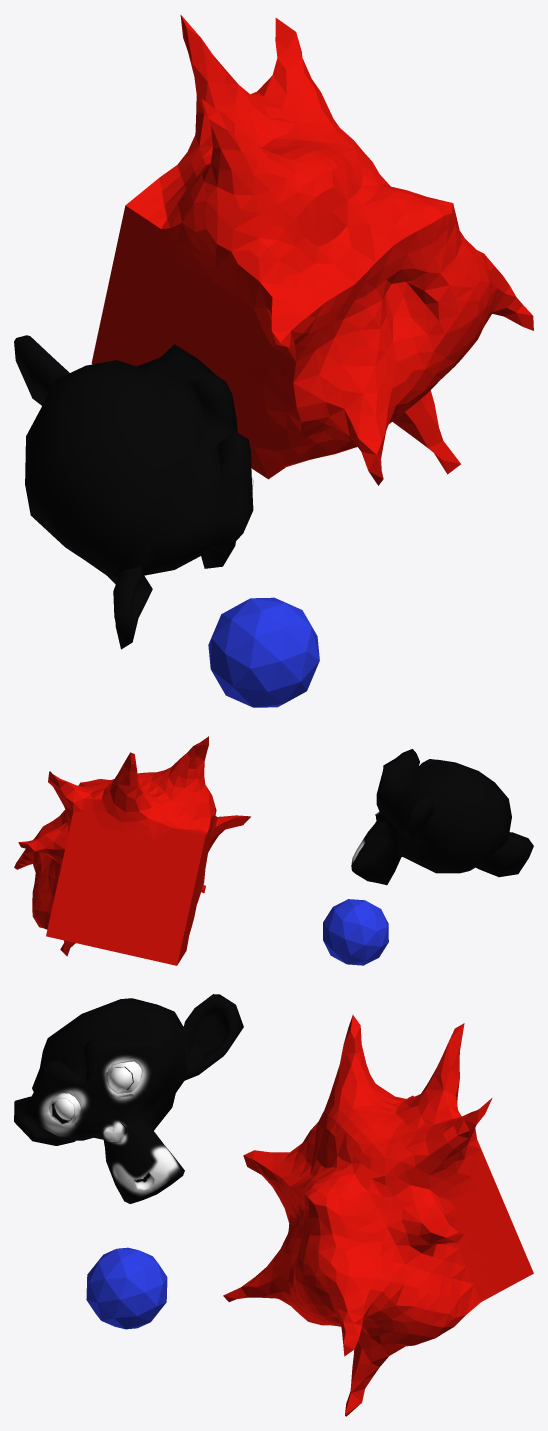
File: suzanne.gltf
3 views of the same model, one above another, from view 1: azimuth 30°, elevation 25°; view 2: azimuth 150°, elevation 25°; view 3: azimuth 270°, elevation 25° (orthographic). The views are drawn at different scales.
Visible parts, largest first — view 1: Cube, Suzanne, Icosphere; view 2: Cube, Suzanne, Icosphere; view 3: Cube, Suzanne, Icosphere.
Boxes of the visible parts, x1,y1,x2,y2 form: Cube: (91,15,533,485); Suzanne: (14,335,253,649); Icosphere: (208,597,319,707); Cube: (14,736,250,965); Suzanne: (351,749,533,885); Icosphere: (323,899,388,965); Cube: (223,1015,533,1416); Suzanne: (14,994,243,1203); Icosphere: (86,1247,167,1329).
Bounding box in the file's own units: 6.86 × 4.8 × 6.39.
3 materials, 1 textured.
